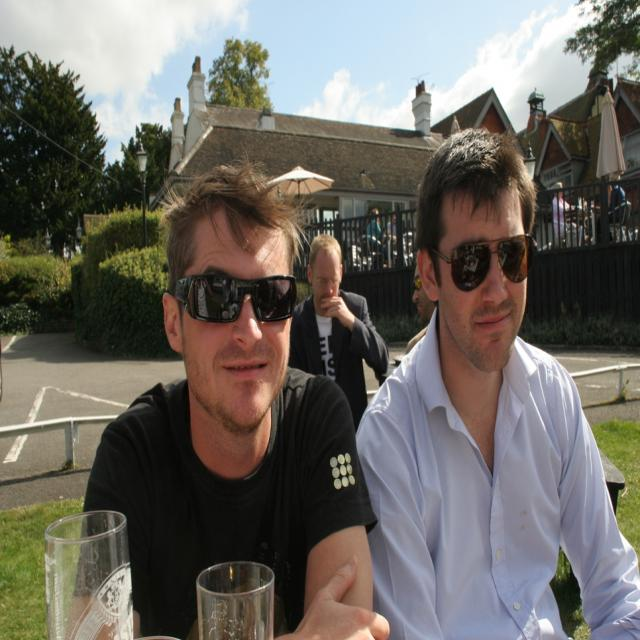Glasses: (175, 262, 296, 331), (310, 267, 340, 288)
